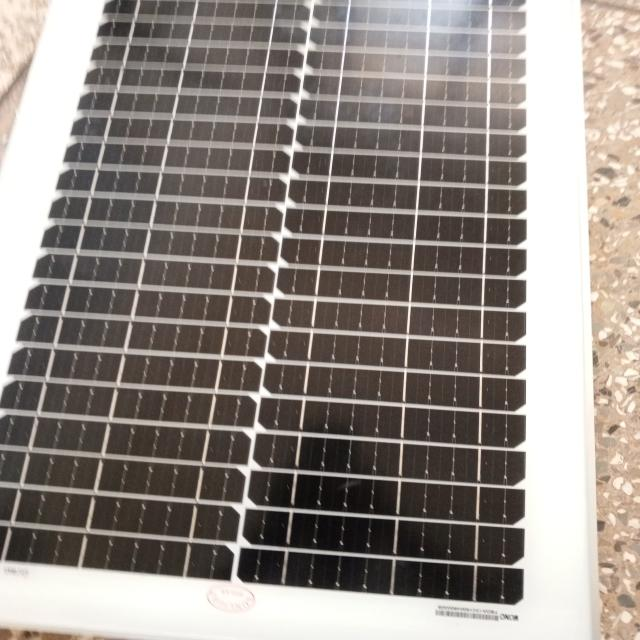Clean: (74, 5, 564, 625)
